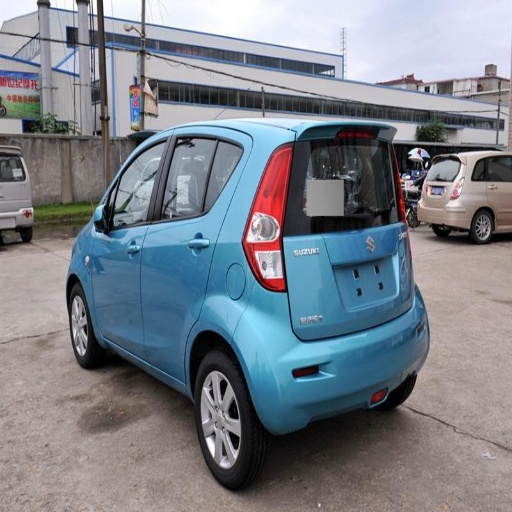back_bumper: (234, 287, 431, 434)
back_left_door: (142, 131, 227, 374)
tailgate: (284, 215, 403, 332)
trunk: (287, 181, 345, 285)
